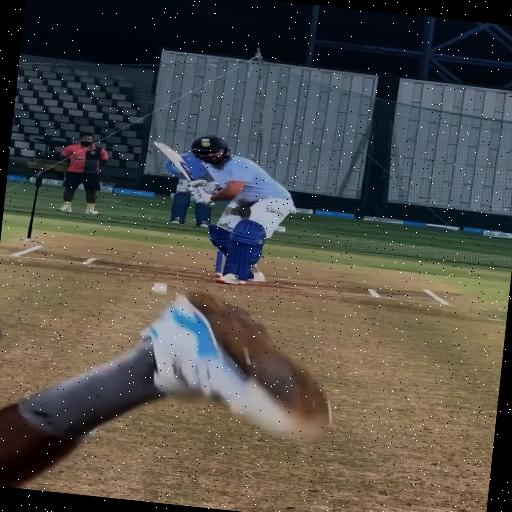Cricket bat: (154, 141, 191, 181)
